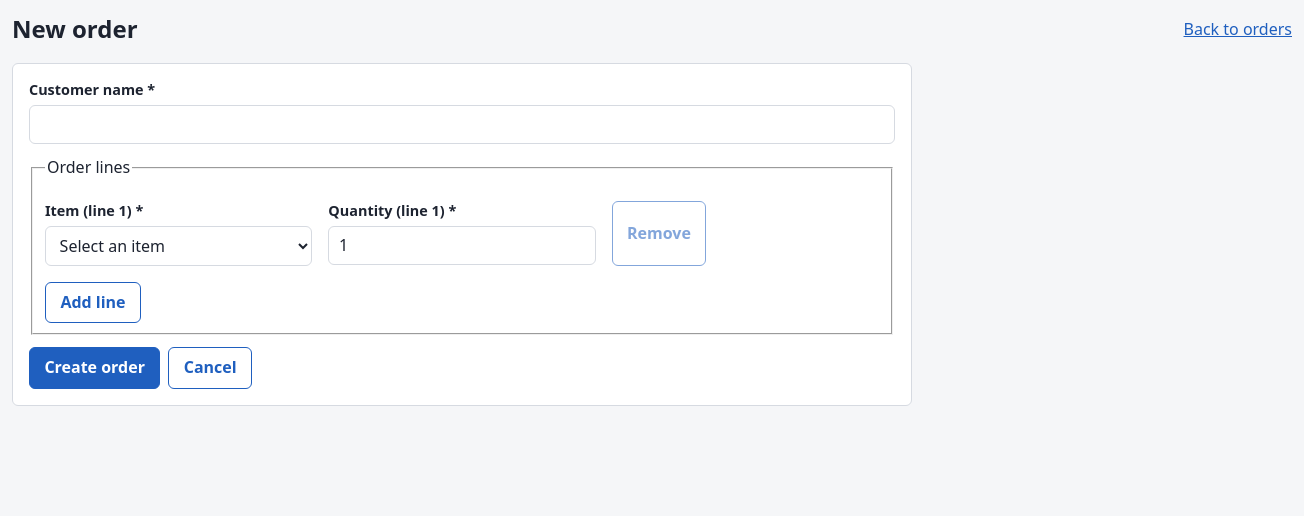
CreateOrderPage › shows server errors and preserves the input
In the field labelled "Customer name *": (462, 124) [29,105,895,144], type "Acme Ltd"
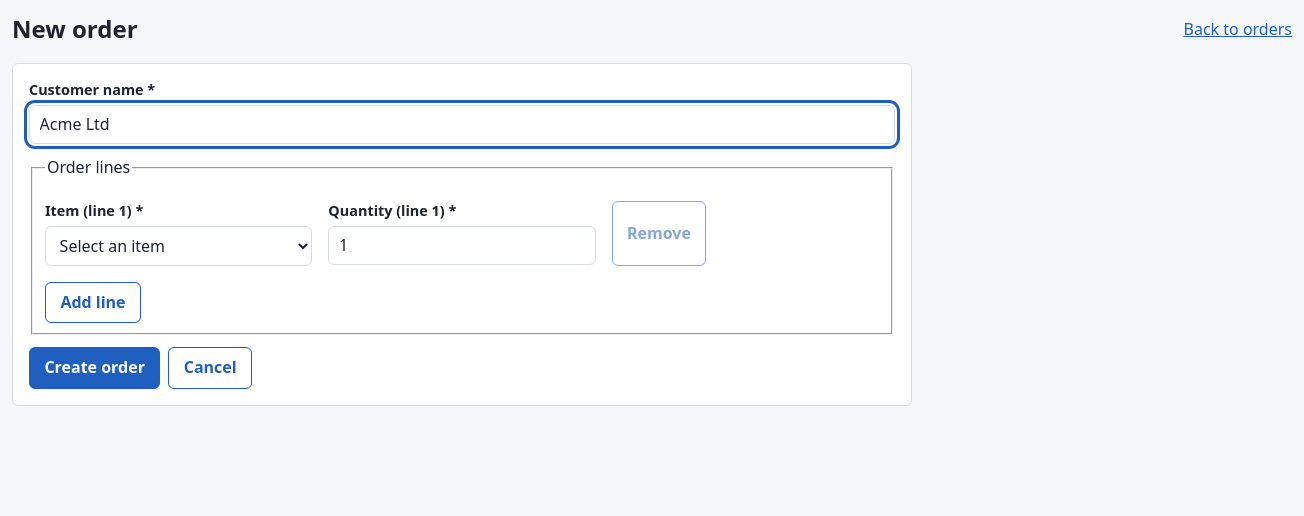
Select "BOLT-10 — Bolt" in the dropdown labelled "Item (line 1) *": (179, 246) [45,226,312,266]
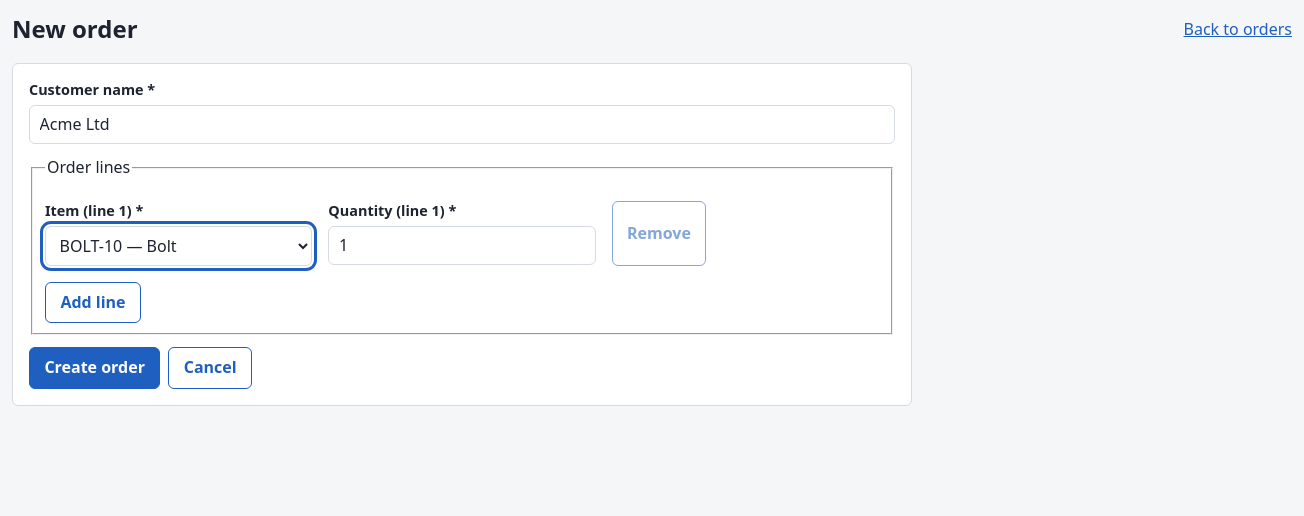
Click the button "Create order": (95, 368) [29,348,160,389]
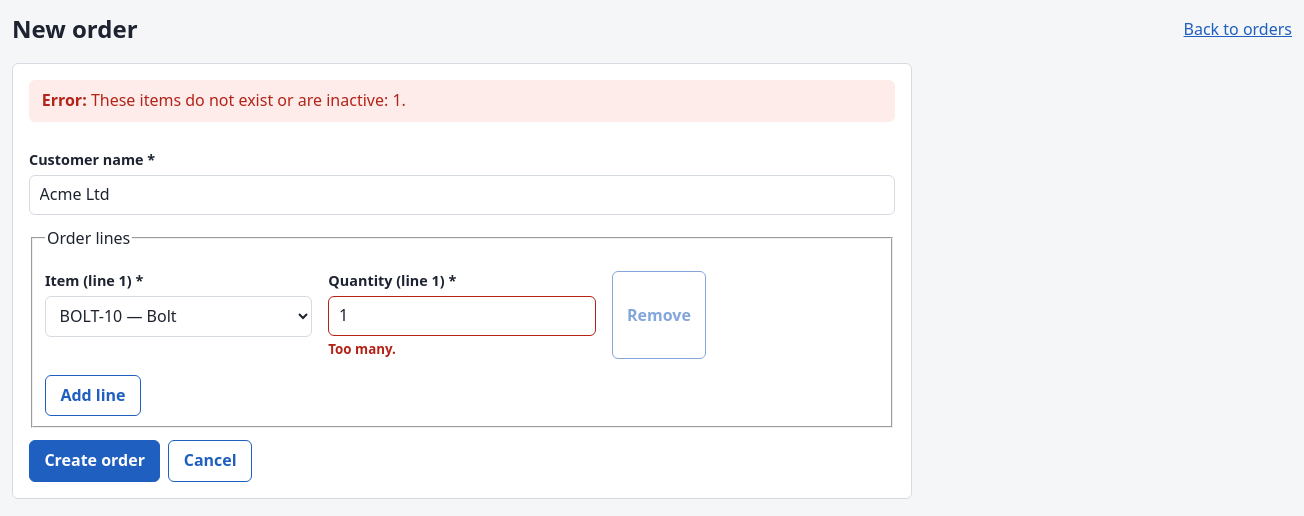
expect the button "Create order" is enabled: met, box [29,440,160,482]
expect the text "These items do not exist or are inactive: 1." is shown: met, box [91,89,406,111]
expect the text "Too many." is shown: met, box [328,340,396,358]
